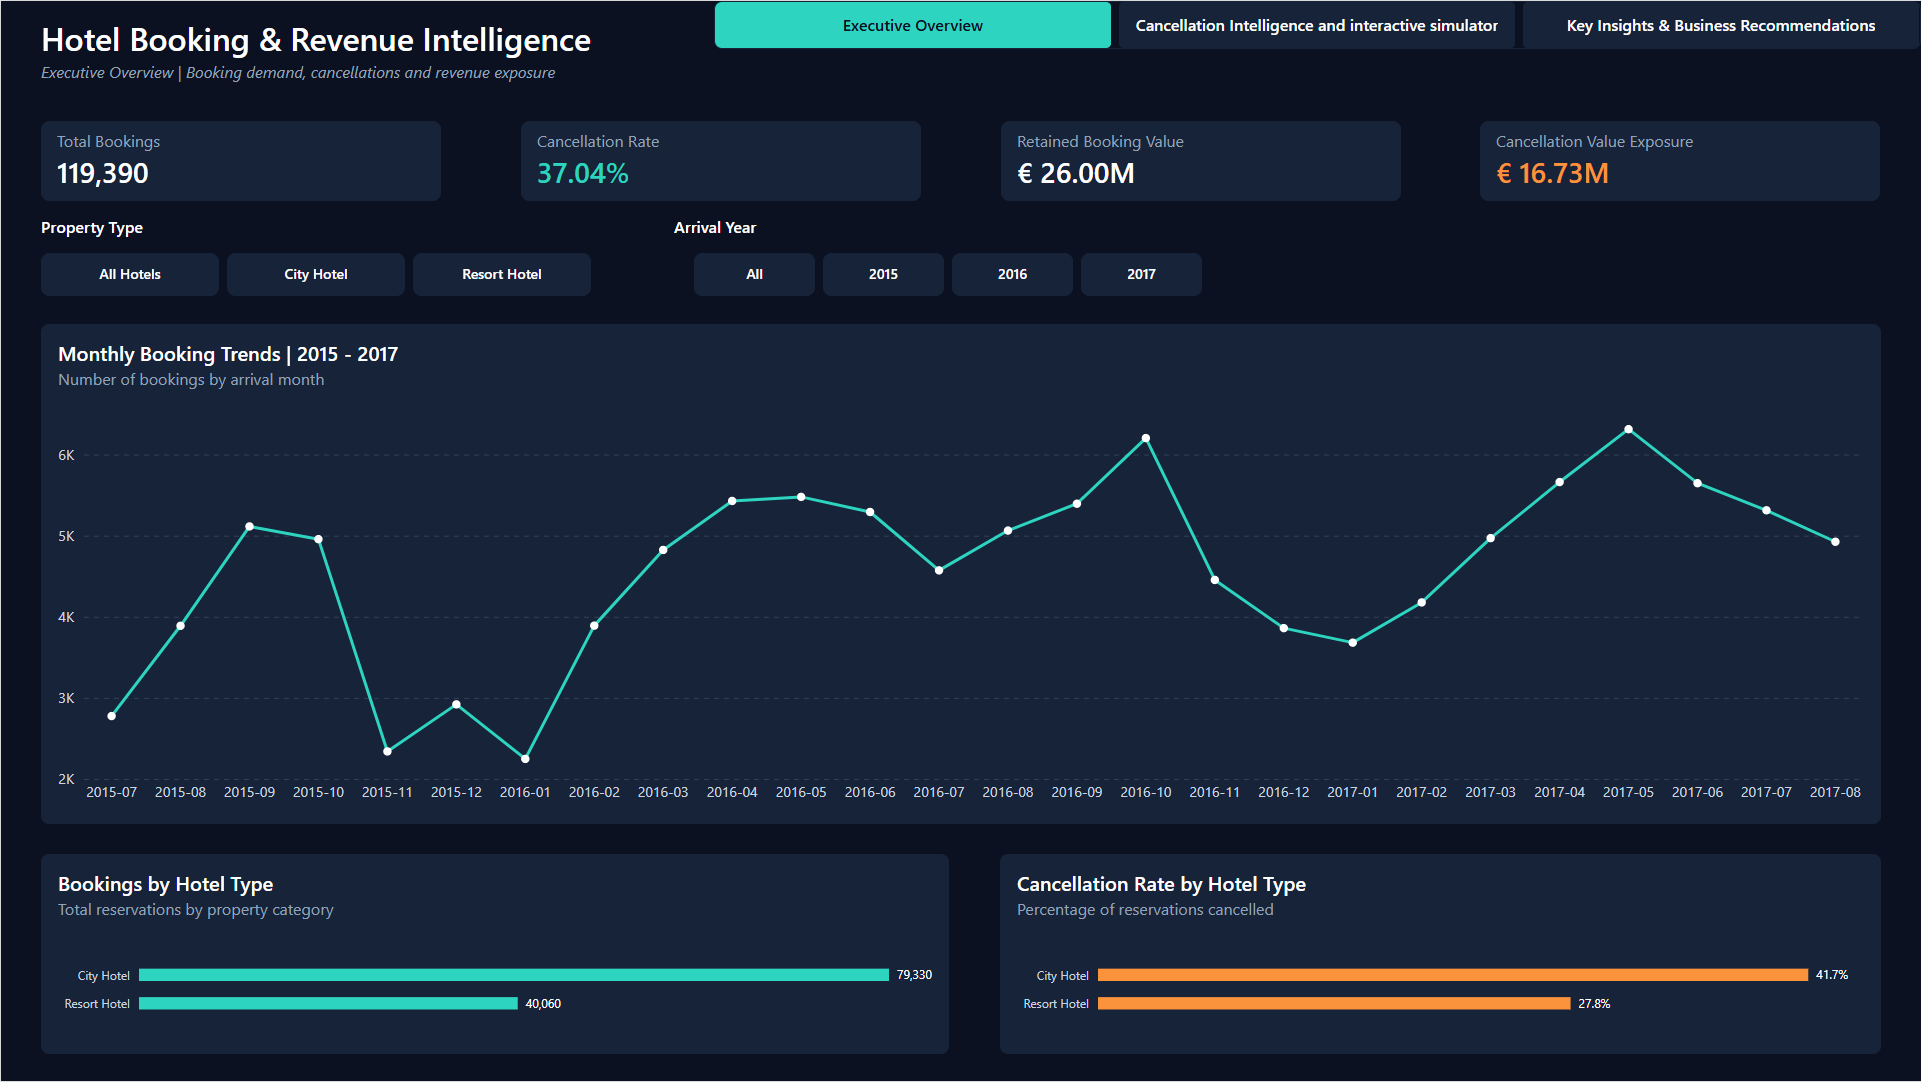

The page's visual inventory and layout, read from the dashboard file:
{"tool":"powerbi","page":{"name":"Executive Overview","canvas":[1920,1080],"ordinal":0},"visuals":[{"type":"cardVisual","fields":{"Data":["FactBookings.Total Bookings"]},"box":[40,120,400,80],"z":0},{"type":"cardVisual","fields":{"Data":["FactBookings.Cancellation Rate"]},"box":[519.8,120,400,80],"z":1000},{"type":"cardVisual","fields":{"Data":["FactBookings.Retained Booking Value"]},"box":[999.5,120,400,80],"z":2000},{"type":"cardVisual","fields":{"Data":["FactBookings.Cancellation Value Exposure"]},"box":[1479.3,119.8,400,80],"z":3000},{"type":"lineChart","title":"Monthly Booking Trends | 2015 - 2017","fields":{"Category":["DimDate.YearMonth"],"Y":["FactBookings.Total Bookings"]},"box":[40.2,322.9,1840,500],"z":4000},{"type":"clusteredBarChart","title":"Bookings by Hotel Type","fields":{"Category":["DimHotel.HotelType"],"Y":["FactBookings.Total Bookings"]},"box":[40.2,853,908,200.2],"z":5000},{"type":"clusteredBarChart","title":"Cancellation Rate by Hotel Type","fields":{"Category":["DimHotel.HotelType"],"Y":["FactBookings.Cancellation Rate"]},"box":[999.3,853,880.5,200.2],"z":6000},{"type":"advancedSlicerVisual","title":"Property Type","fields":{"Values":["DimHotel.HotelType"]},"box":[40.2,215,550,80],"z":7000},{"type":"advancedSlicerVisual","title":"Arrival Year","fields":{"Values":["DimDate.Year"]},"box":[673.4,215,550,80],"z":8000},{"type":"textbox","title":"Hotel Booking & Revenue Intelligence","box":[40.2,15,640,66.7],"z":9000},{"type":"pageNavigator","box":[713,0,1207,48],"z":9001}]}

Visuals, with their boxes in screenshot pixels (x1, y1, x2, y2), scaled from the page's 1920x1080 canvas onto the 1921x1082 screenshot:
cardVisual - FactBookings.Total Bookings: bbox(40, 120, 440, 200)
cardVisual - FactBookings.Cancellation Rate: bbox(520, 120, 920, 200)
cardVisual - FactBookings.Retained Booking Value: bbox(1000, 120, 1400, 200)
cardVisual - FactBookings.Cancellation Value Exposure: bbox(1480, 120, 1880, 200)
"Monthly Booking Trends | 2015 - 2017" lineChart: bbox(40, 323, 1881, 824)
"Bookings by Hotel Type" clusteredBarChart: bbox(40, 855, 949, 1055)
"Cancellation Rate by Hotel Type" clusteredBarChart: bbox(1000, 855, 1881, 1055)
"Property Type" advancedSlicerVisual: bbox(40, 215, 591, 296)
"Arrival Year" advancedSlicerVisual: bbox(674, 215, 1224, 296)
"Hotel Booking & Revenue Intelligence" textbox: bbox(40, 15, 681, 82)
pageNavigator: bbox(713, 0, 1920, 48)
